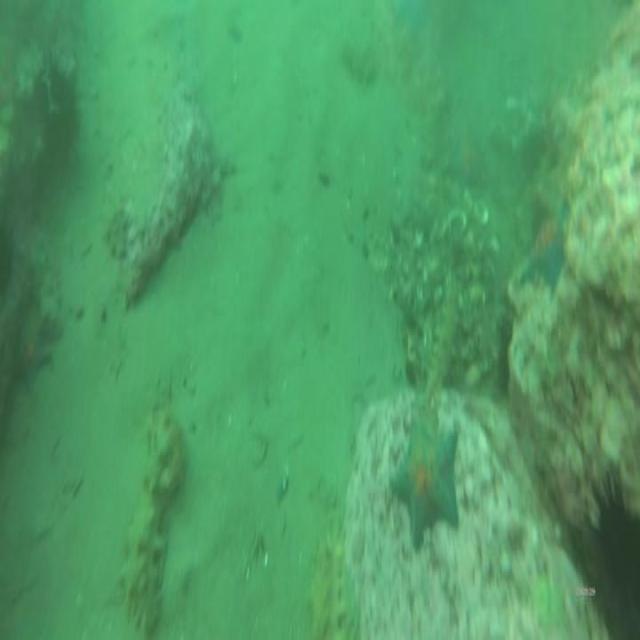echinus: (583, 463, 640, 640), (35, 65, 81, 166)
holothurian: (129, 400, 180, 638), (312, 523, 352, 640), (428, 274, 460, 402)
starfish: (393, 416, 460, 542), (526, 205, 568, 302), (15, 305, 52, 378)
